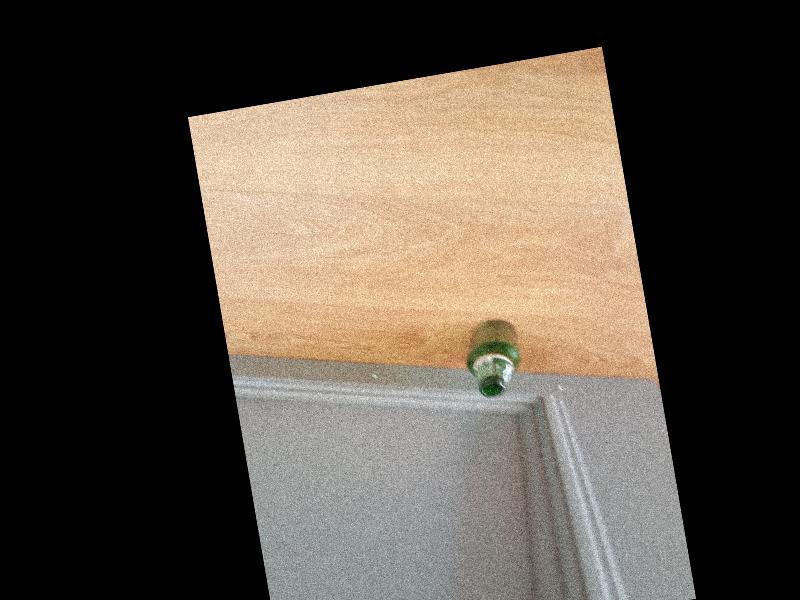Beer: (460, 317, 525, 399)
